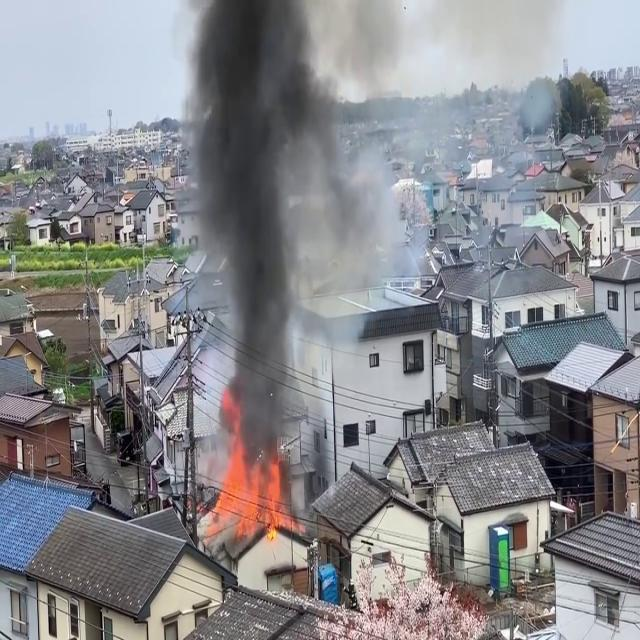Fire: (202, 440, 296, 540)
Smoke: (184, 0, 346, 480)
